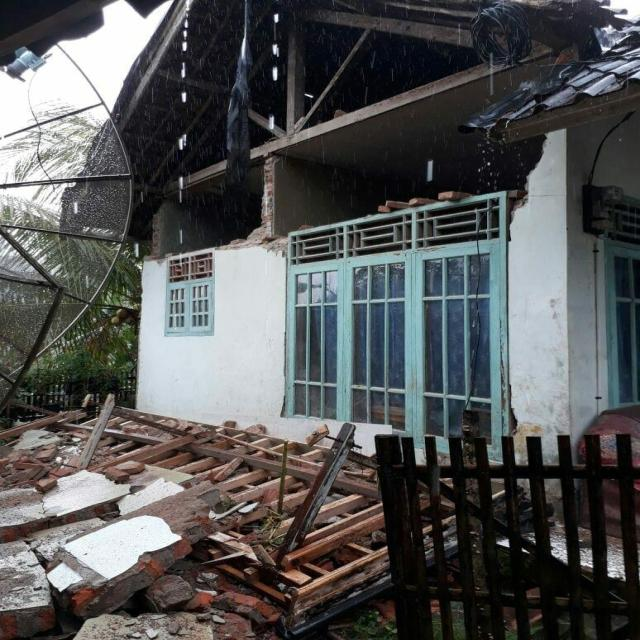damage: (0, 393, 569, 640), (0, 0, 630, 144), (288, 122, 583, 245), (78, 144, 309, 278)
